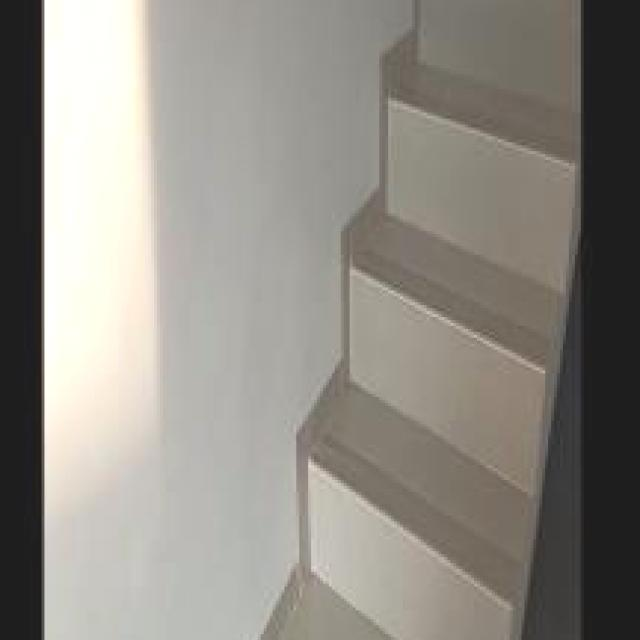upstair: (279, 40, 579, 629)
